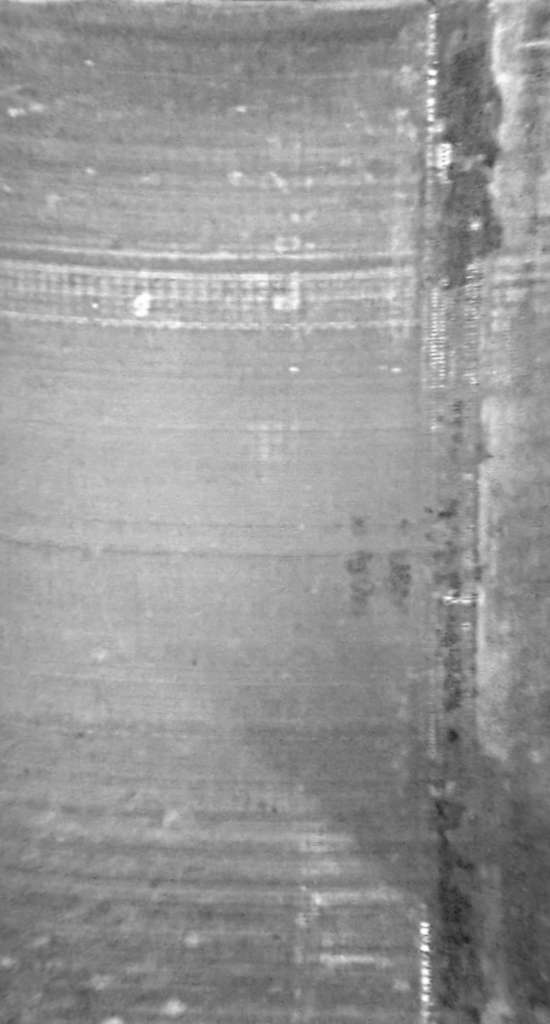splice: (412, 1, 519, 1024)
